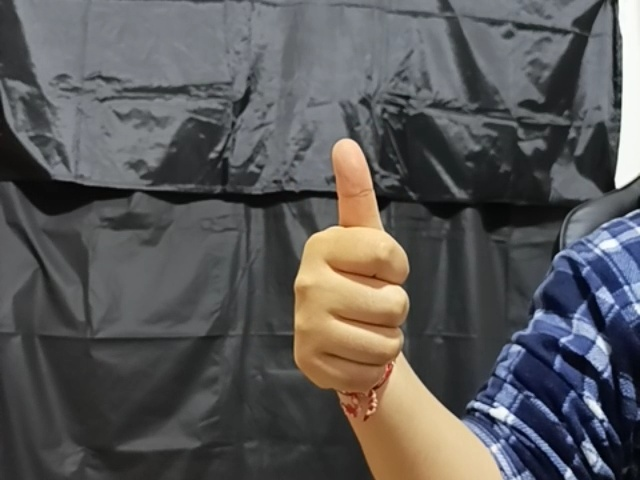A: (274, 133, 424, 391)
